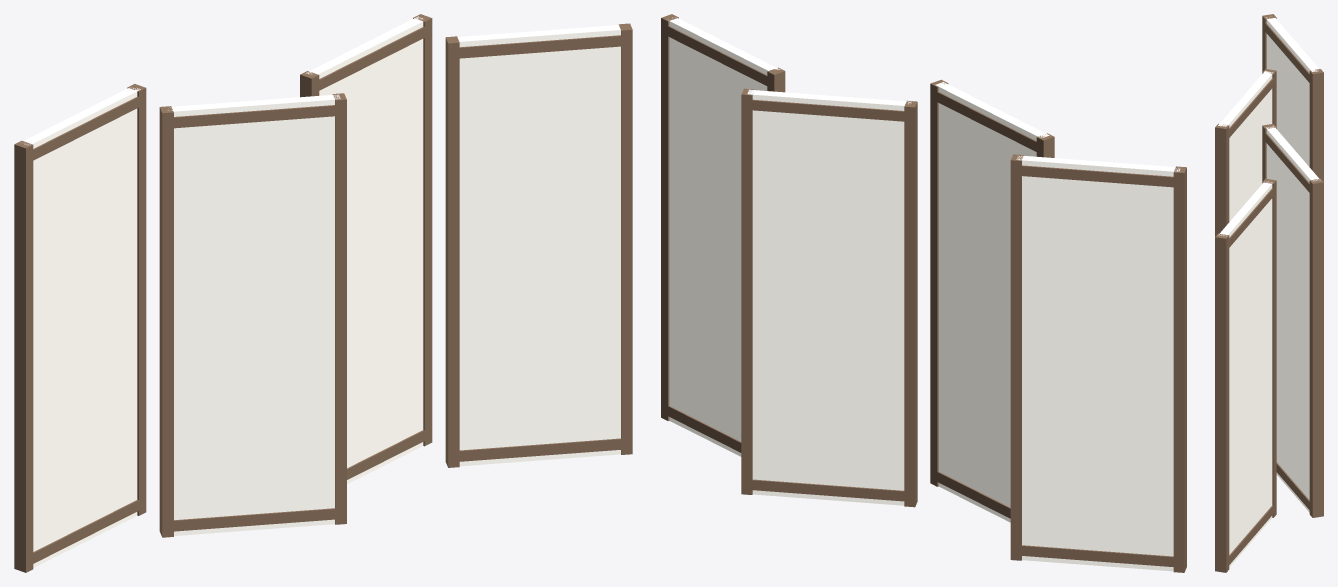
The model's file is shoji_screen.glb.
3 views of the same model, side by side, from view 1: azimuth 30°, elevation 25°; view 2: azimuth 150°, elevation 25°; view 3: azimuth 270°, elevation 25° (orthographic). The views are drawn at different scales.
Visible parts, largest first — view 1: shoji_screen; view 2: shoji_screen; view 3: shoji_screen.
Boxes of the visible parts, box(x1,y1,x2,y2) form: shoji_screen: box(14, 14, 632, 572); shoji_screen: box(661, 14, 1186, 572); shoji_screen: box(1215, 14, 1323, 572).
Size of the model in its own units: 2.31 by 1.6 by 0.473.
